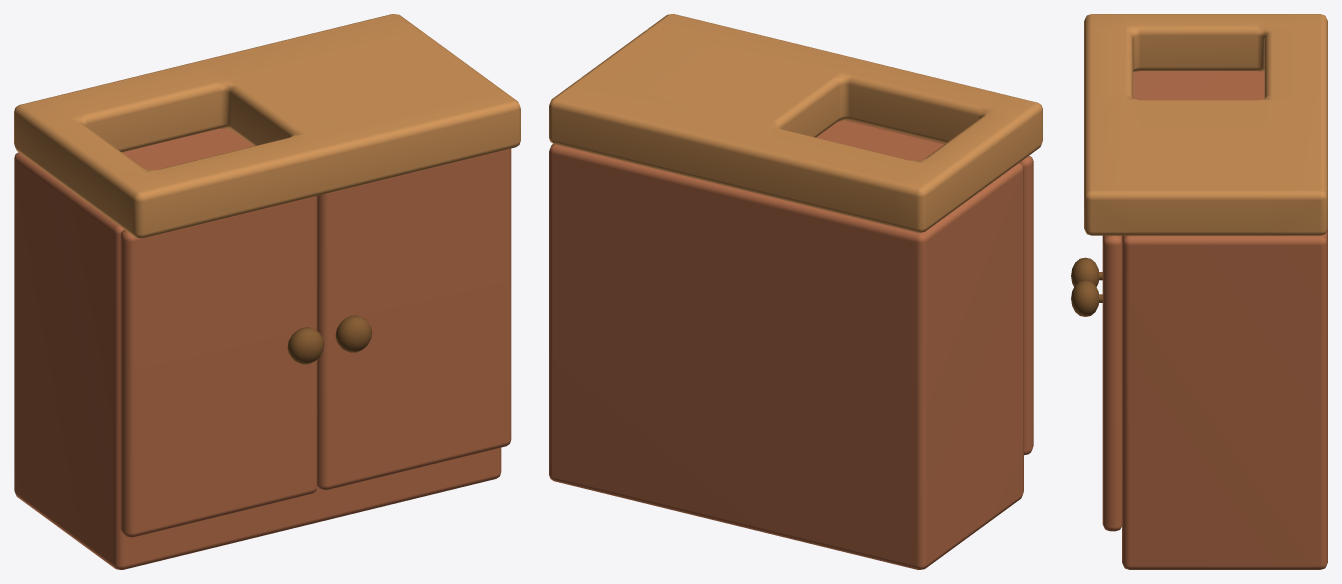
File: SM_cabinet_sink.glb
The picture shows the model from 3 angles, left to right: view 1: azimuth 30°, elevation 25°; view 2: azimuth 150°, elevation 25°; view 3: azimuth 270°, elevation 25°; orthographic projection. The views are drawn at different scales.
Parts seen in each view (by area): view 1: SM_cabinet_sink; view 2: SM_cabinet_sink; view 3: SM_cabinet_sink.
Part boxes in pixels (box(x1,y1,x2,y2)): SM_cabinet_sink: box(14, 14, 520, 569); SM_cabinet_sink: box(549, 14, 1042, 569); SM_cabinet_sink: box(1071, 14, 1327, 569).
Bounding box in the file's own units: 1.13 × 1.09 × 0.6715.
1 material, 1 textured.
